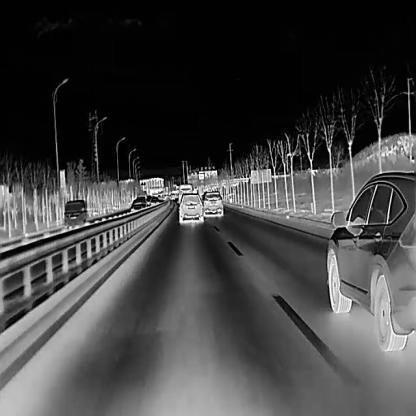car: (325, 165, 415, 353), (176, 192, 202, 223), (62, 197, 86, 230), (201, 190, 223, 217), (178, 183, 193, 204), (129, 197, 147, 214), (149, 196, 159, 207)
